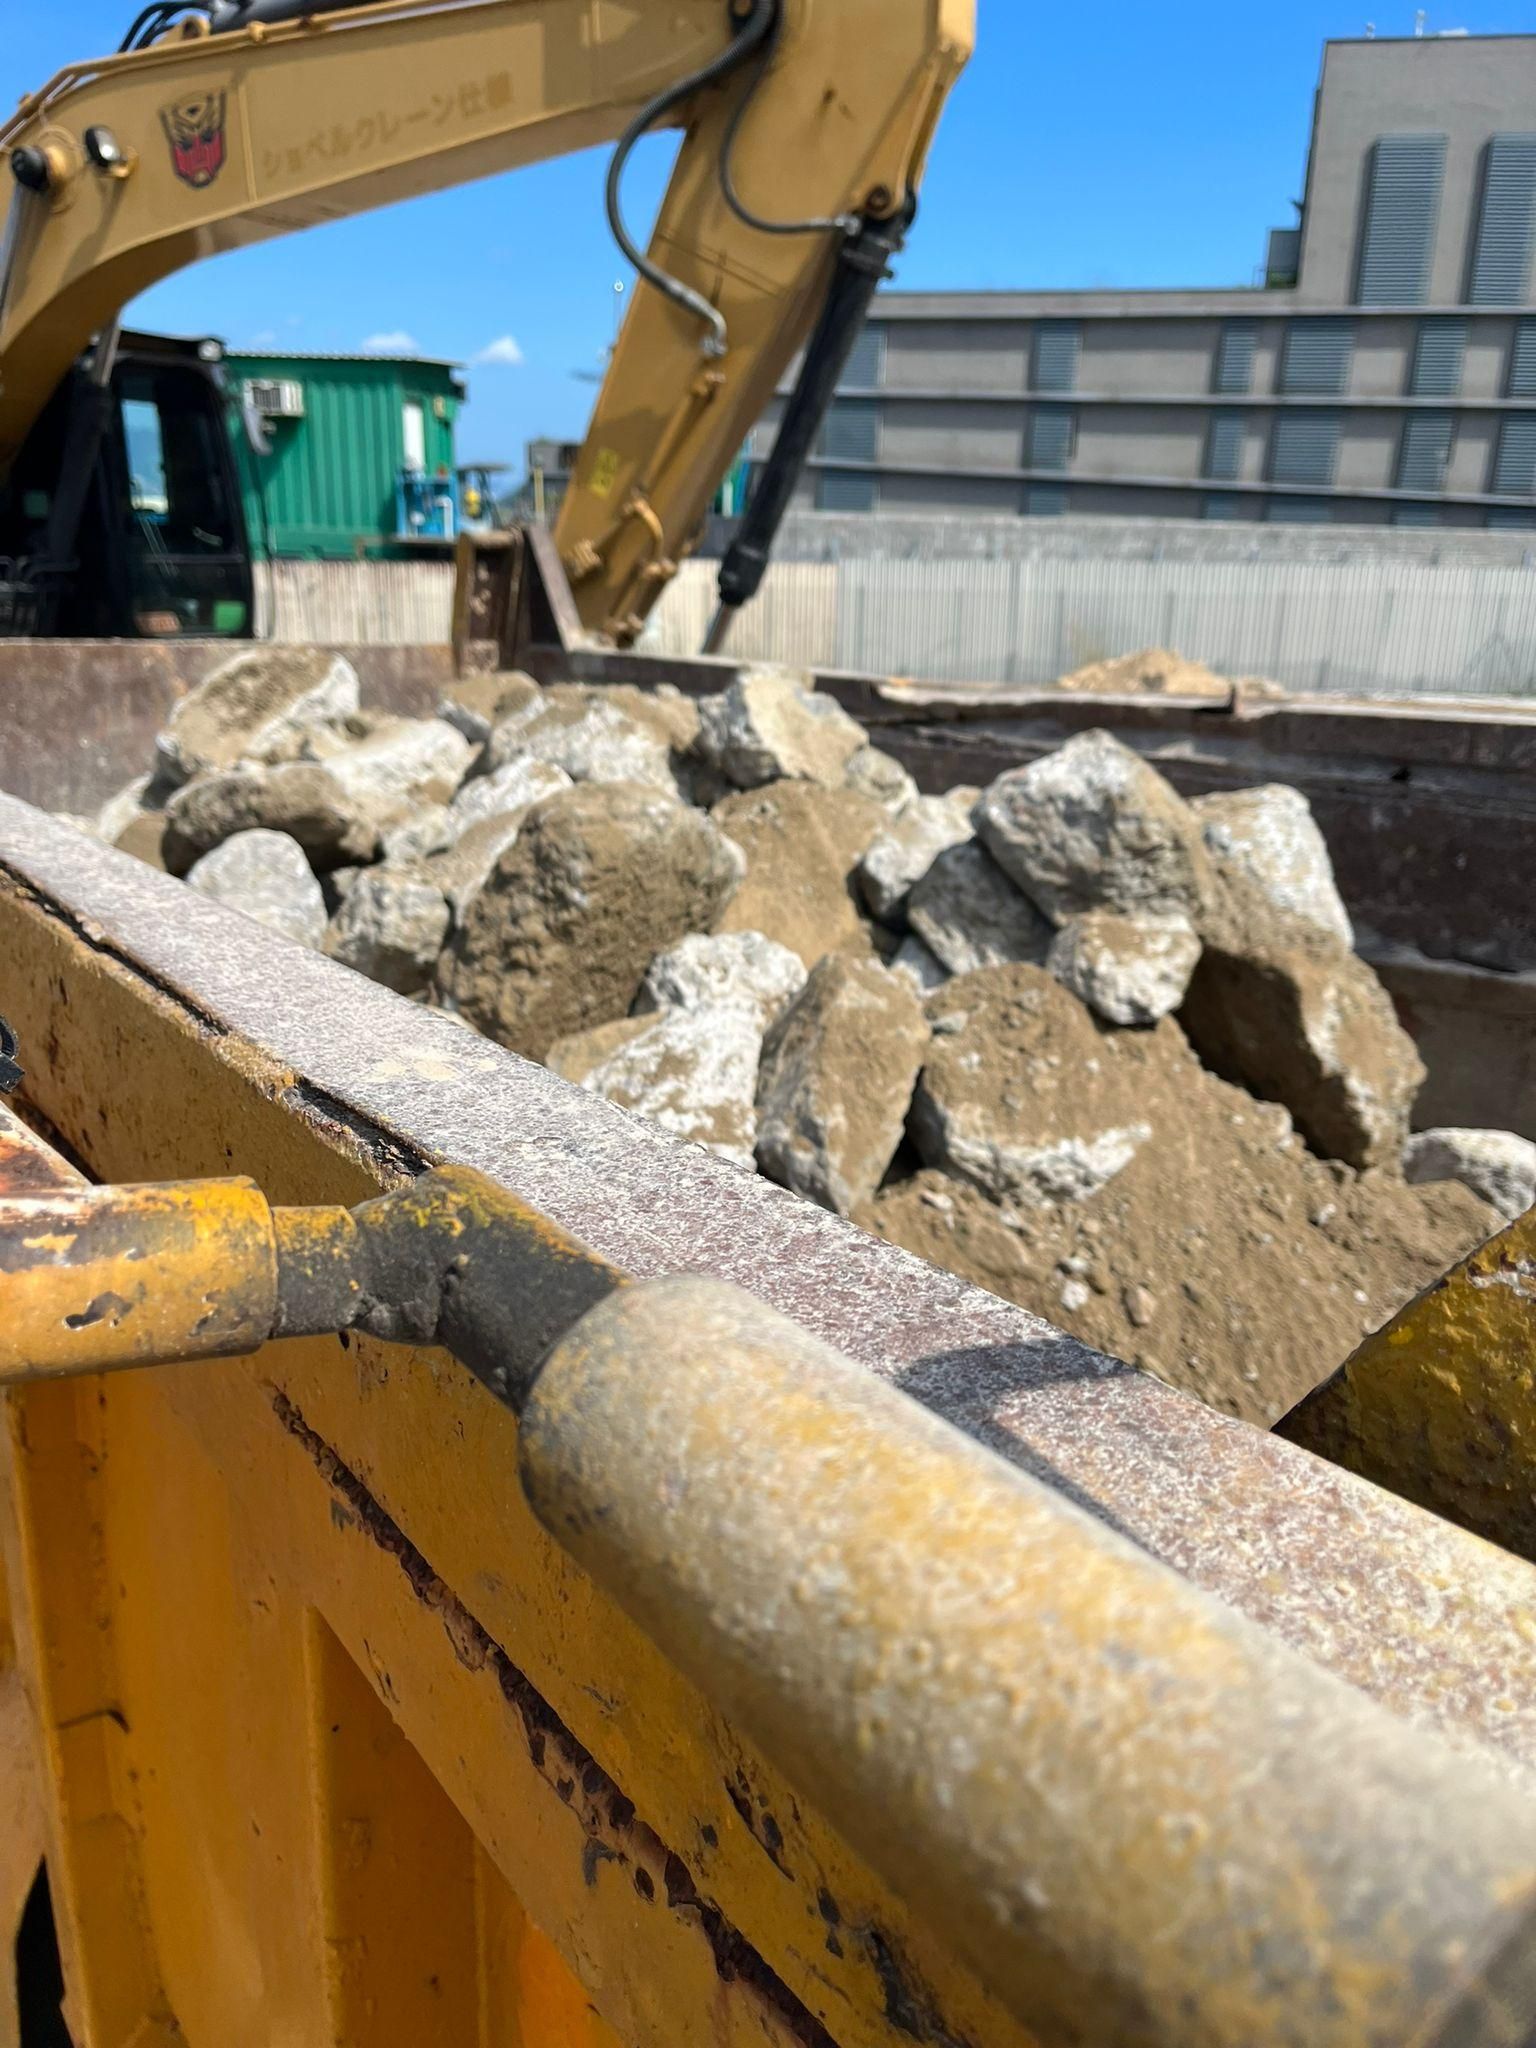dry: (116, 660, 1517, 1397)
